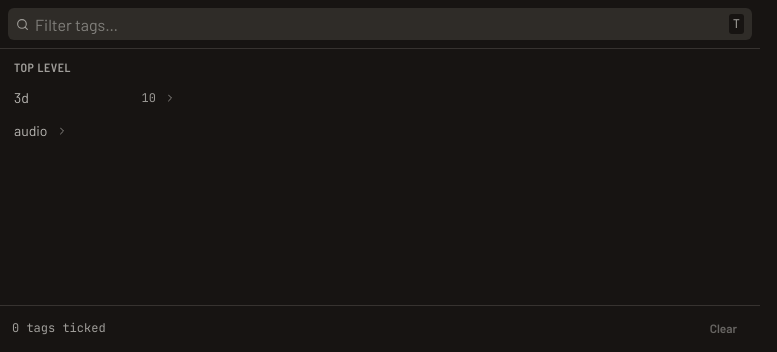
Test: TagPicker › lists matching paths when filtering
Type "human" into the search field labelled "Filter tags". click: (379, 24)
box: [35, 14, 723, 34]
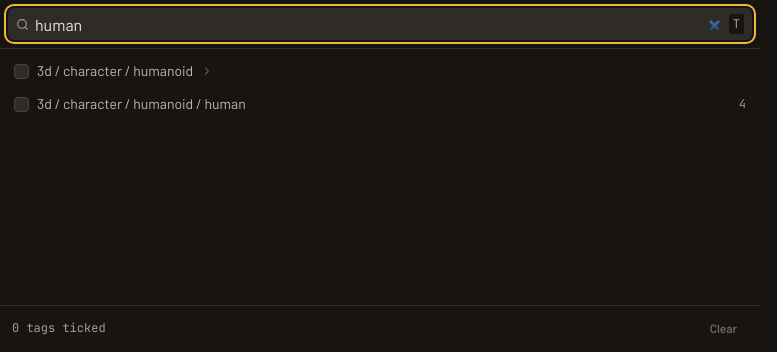
Expected: the list items read "3d / character / humanoid", "3d / character / humanoid / human4", in this order, [6, 55, 754, 87]; [6, 88, 754, 121]
